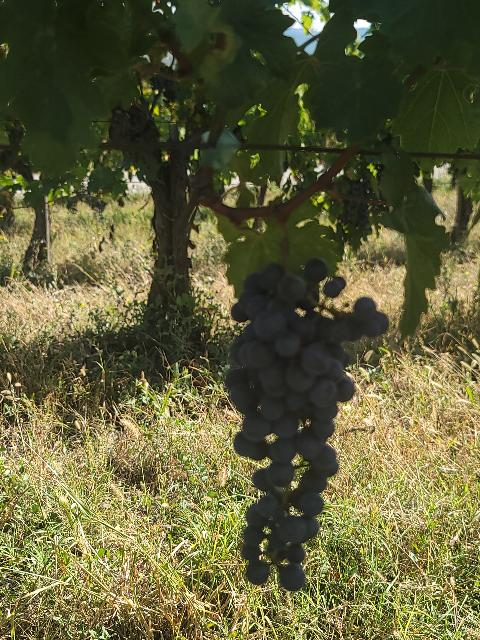grapes: (225, 259, 389, 591)
